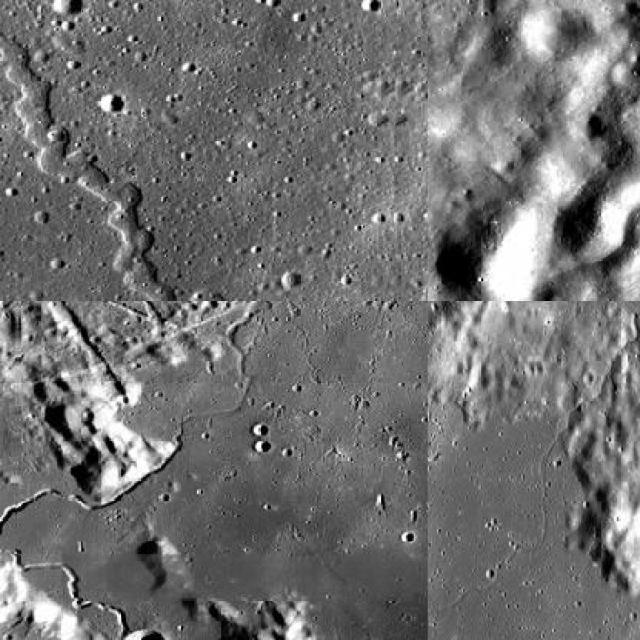rille: (0, 300, 271, 638), (0, 15, 263, 298), (428, 306, 638, 639), (503, 54, 639, 298)
